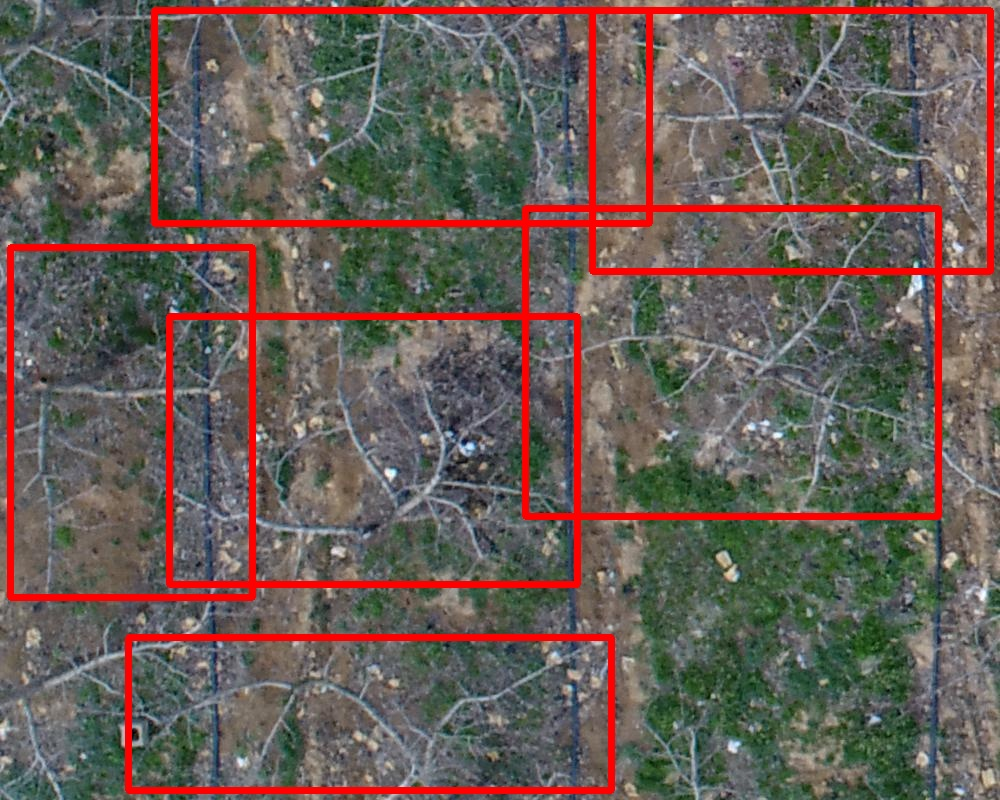apple: (525, 208, 938, 516), (169, 316, 577, 584), (154, 10, 649, 223), (592, 10, 990, 271), (10, 247, 252, 597), (128, 637, 611, 790)
